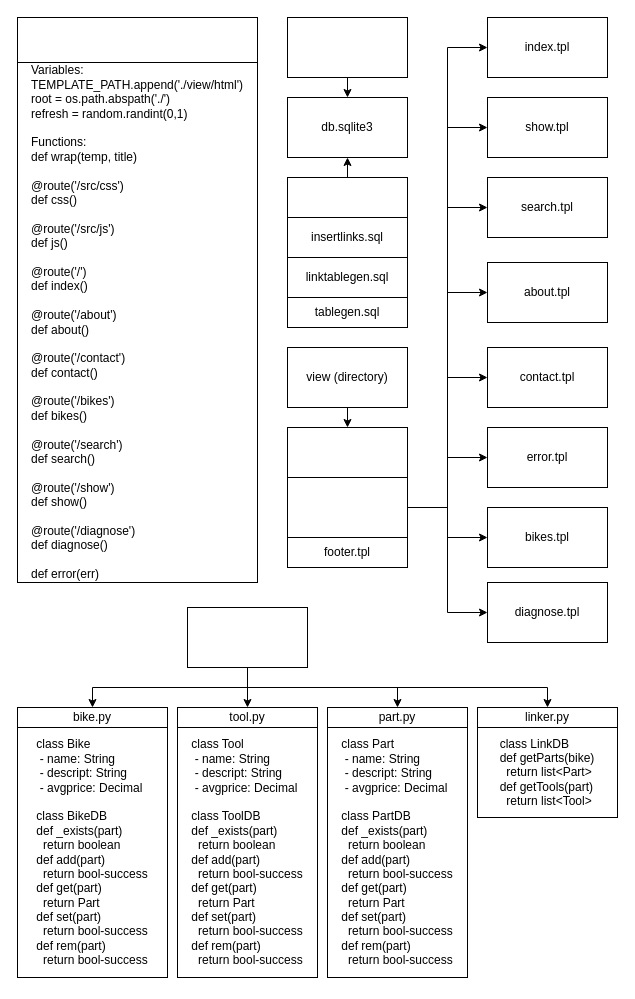
The diagram is 635 pixels wide and 999 high, and some of its shapes have lost their labels. The centre of each missing label's shape, as x and y in pixels:
"db" belongs at point 347,47.
"header.tpl - title: String - refresh: String" belongs at point 347,452.
"insertdata.sql" belongs at point 347,197.
"main.py" belongs at point 137,39.
"model (directory)" belongs at point 247,637.
"Page Content" belongs at point 347,507.
